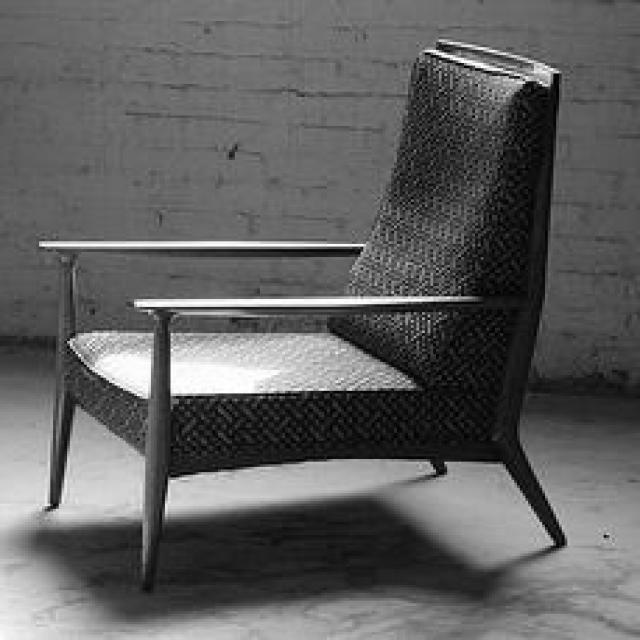chair: (46, 39, 566, 588)
